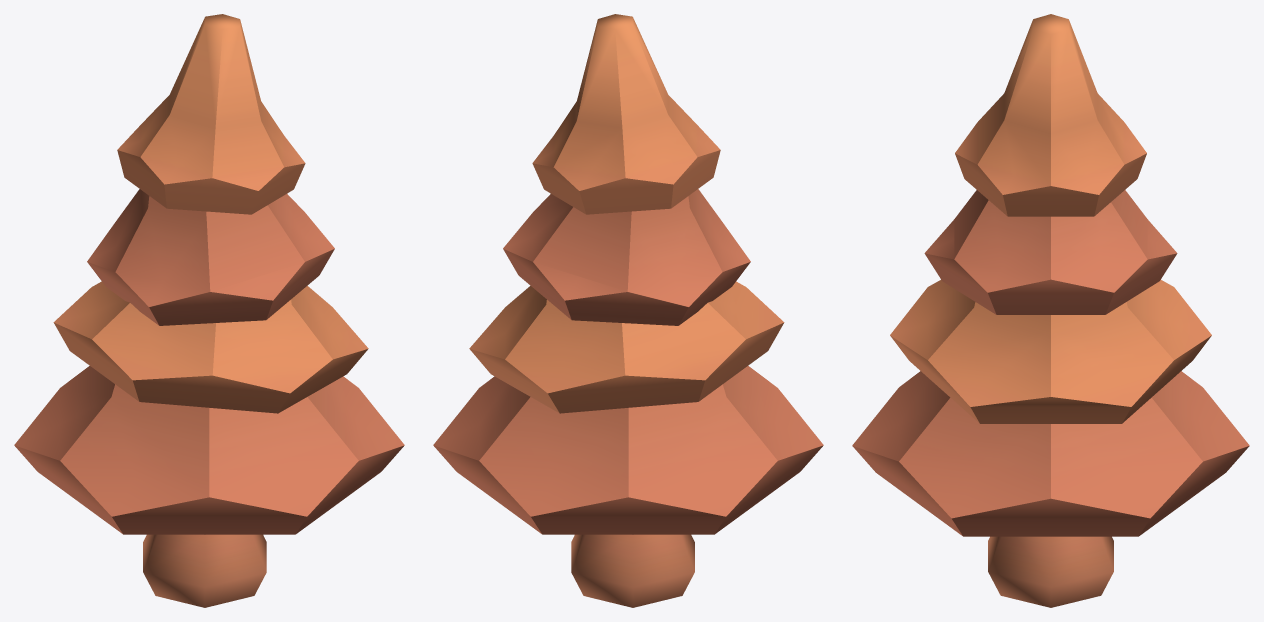
The model's file is kenney-graveyard-pine-fall-crooked.glb.
The picture shows the model from 3 angles, left to right: view 1: azimuth 30°, elevation 25°; view 2: azimuth 150°, elevation 25°; view 3: azimuth 270°, elevation 25°; orthographic projection.
Parts seen in each view (by area): view 1: pine-fall-crooked; view 2: pine-fall-crooked; view 3: pine-fall-crooked.
Part boxes in pixels (x1=…): pine-fall-crooked: x1=14, y1=14, x2=404, y2=607; pine-fall-crooked: x1=433, y1=14, x2=823, y2=607; pine-fall-crooked: x1=852, y1=14, x2=1249, y2=607.
Bounding box in the file's own units: 1.18 × 2.11 × 1.33.
1 material, 1 textured.
